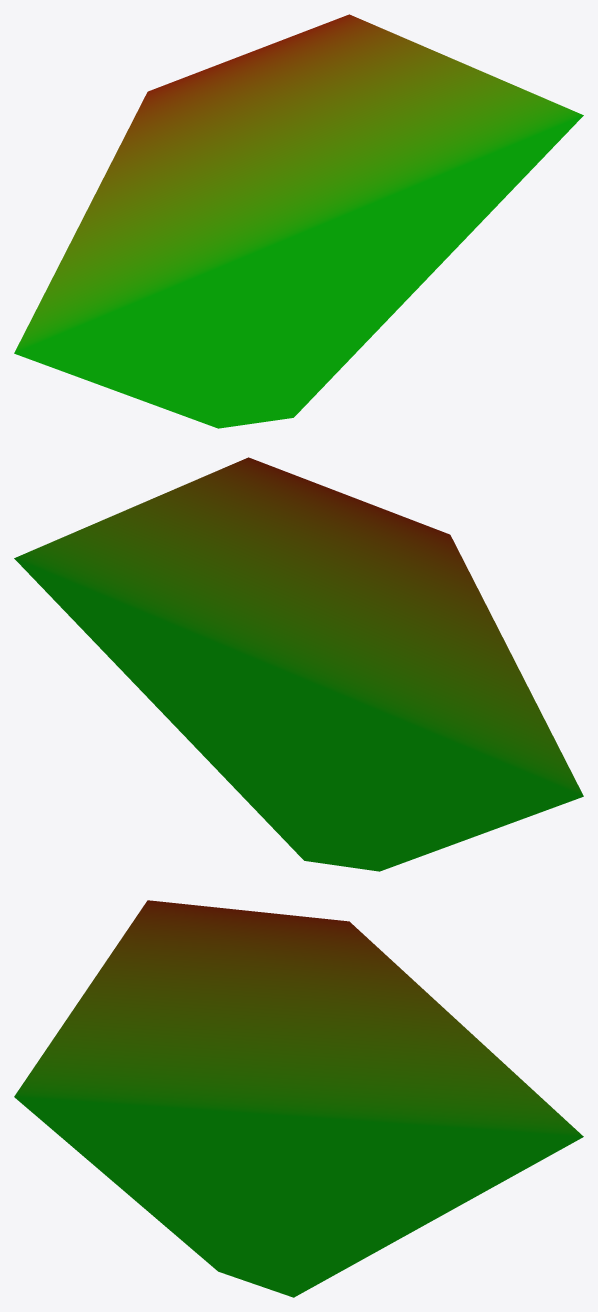
Rendered from Aloe Vera_LOD4_Var11_ve4tbbrha.fbx.
The picture shows the model from 3 angles, top to bottom: view 1: azimuth 30°, elevation 25°; view 2: azimuth 150°, elevation 25°; view 3: azimuth 330°, elevation 25°; orthographic projection.
Parts seen in each view (by area): view 1: _e4l5_Var11_LOD4; view 2: _e4l5_Var11_LOD4; view 3: _e4l5_Var11_LOD4.
Boxes of the visible parts, <box> form: _e4l5_Var11_LOD4: <box>14,14,583,428</box>; _e4l5_Var11_LOD4: <box>14,457,583,871</box>; _e4l5_Var11_LOD4: <box>14,900,583,1297</box>.
Bounding box in the file's own units: 111 × 72.37 × 1.08e-05.
